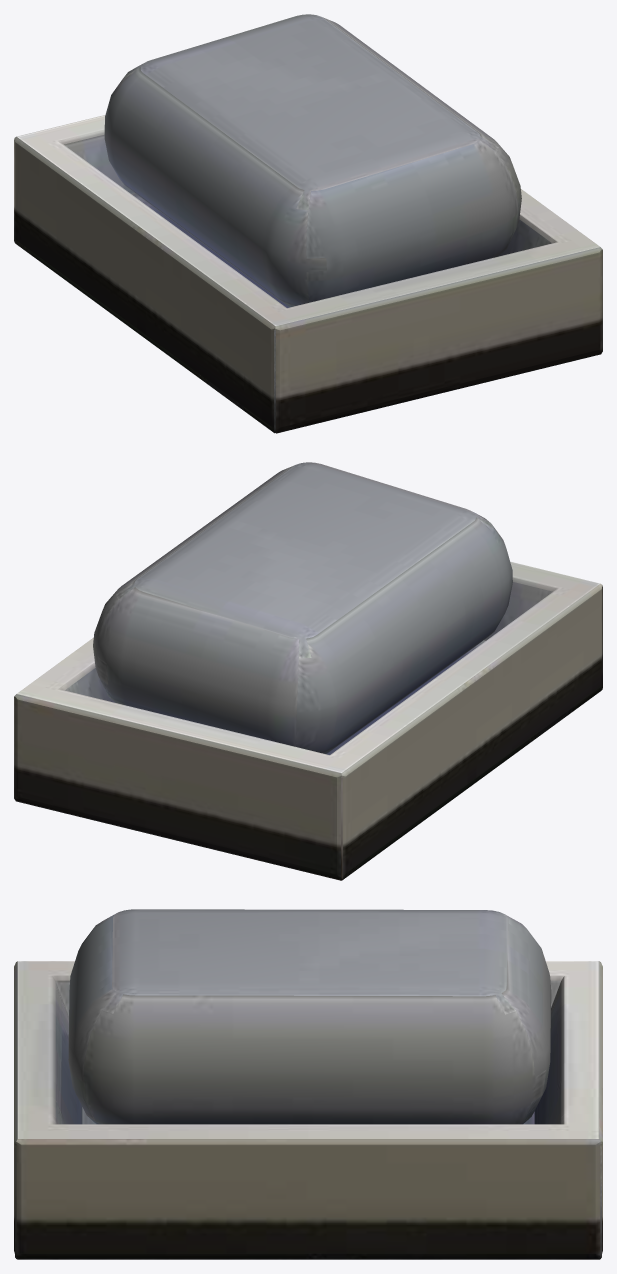
Rendered from 2014_WSJ_JJ_23.FBX.
The picture shows the model from 3 angles, top to bottom: view 1: azimuth 30°, elevation 25°; view 2: azimuth 150°, elevation 25°; view 3: azimuth 270°, elevation 25°; orthographic projection. The views are drawn at different scales.
Parts seen in each view (by area): view 1: 2014_WSJ_JJ_23; view 2: 2014_WSJ_JJ_23; view 3: 2014_WSJ_JJ_23.
Boxes of the visible parts, box(x1,y1,x2,y2) form: 2014_WSJ_JJ_23: box(14, 14, 602, 433); 2014_WSJ_JJ_23: box(14, 462, 602, 880); 2014_WSJ_JJ_23: box(14, 909, 602, 1259).
Bounding box in the file's own units: 0.064 × 0.0379 × 0.088.
